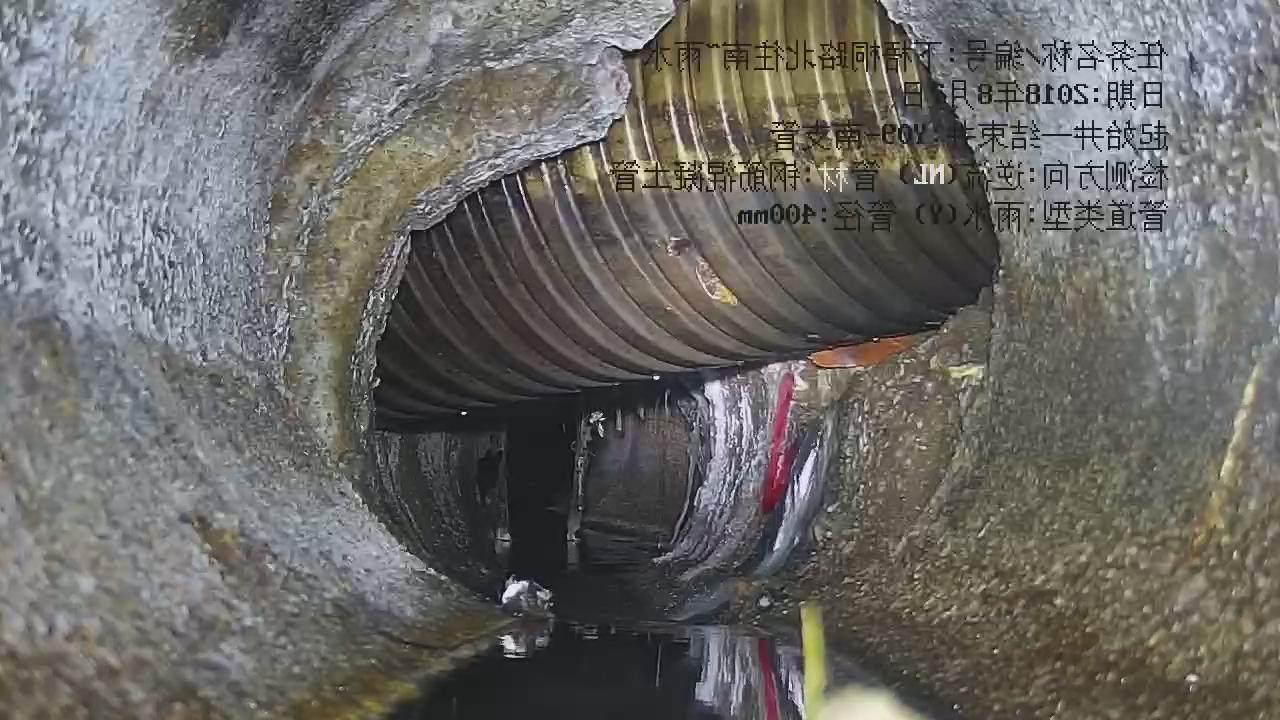YWCR: (376, 0, 998, 431)
